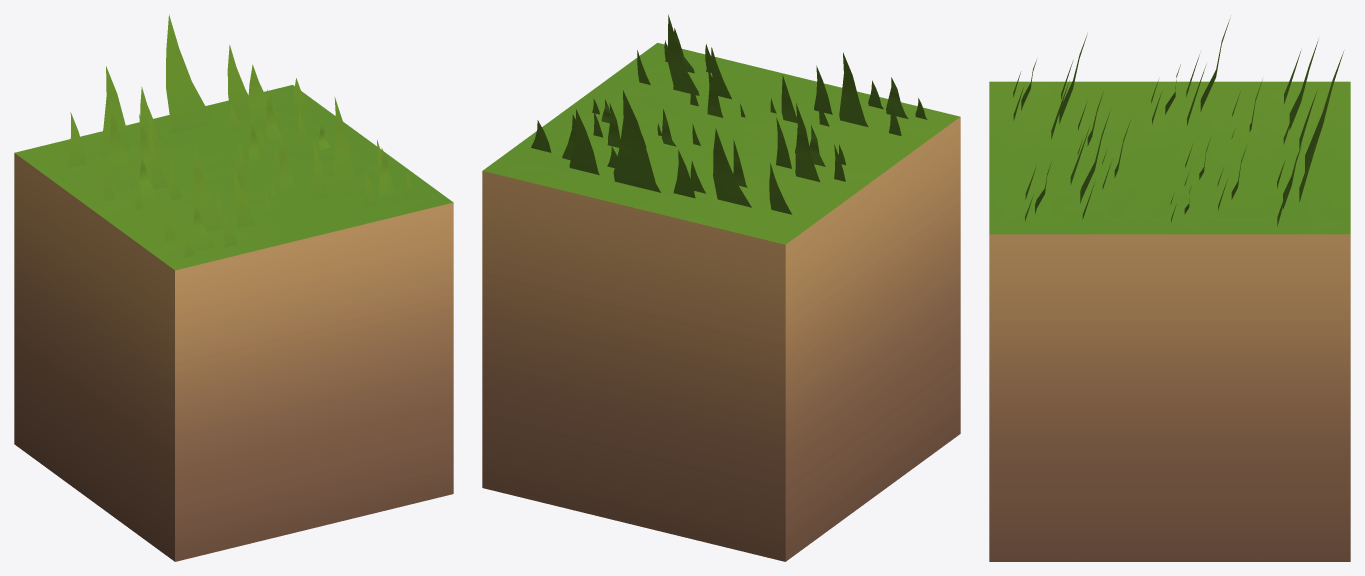
Rendered from light tile new.fbx.
3 renders of one model, left to right at view 1: azimuth 30°, elevation 25°; view 2: azimuth 150°, elevation 25°; view 3: azimuth 270°, elevation 25°, orthographic. The views are drawn at different scales.
Parts seen in each view (by area): view 1: l_tile, l_grass; view 2: l_tile, l_grass; view 3: l_tile, l_grass.
Part boxes in pixels (x1=…): l_tile: x1=14, y1=85, x2=453, y2=561; l_grass: x1=67, y1=14, x2=414, y2=257; l_tile: x1=482, y1=43, x2=960, y2=561; l_grass: x1=531, y1=14, x2=927, y2=214; l_tile: x1=989, y1=81, x2=1350, y2=561; l_grass: x1=1013, y1=18, x2=1343, y2=226.
Size of the model in its own units: 10 by 13.55 by 10.
